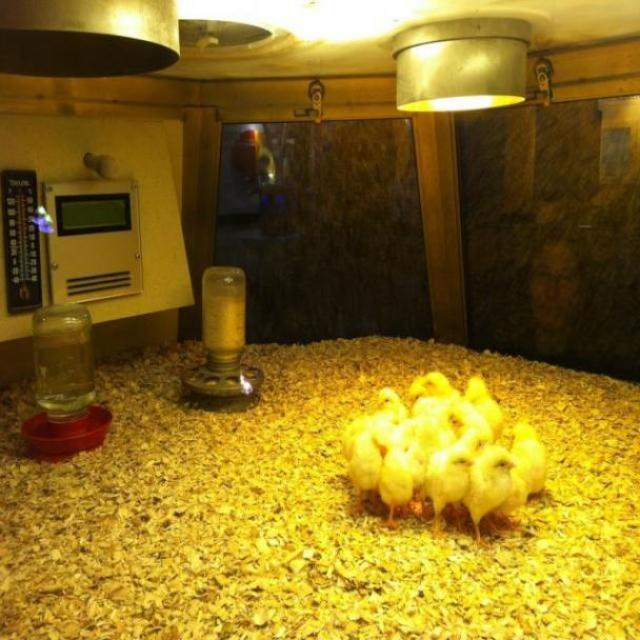Chicken: (340, 371, 548, 550), (456, 449, 521, 545)
